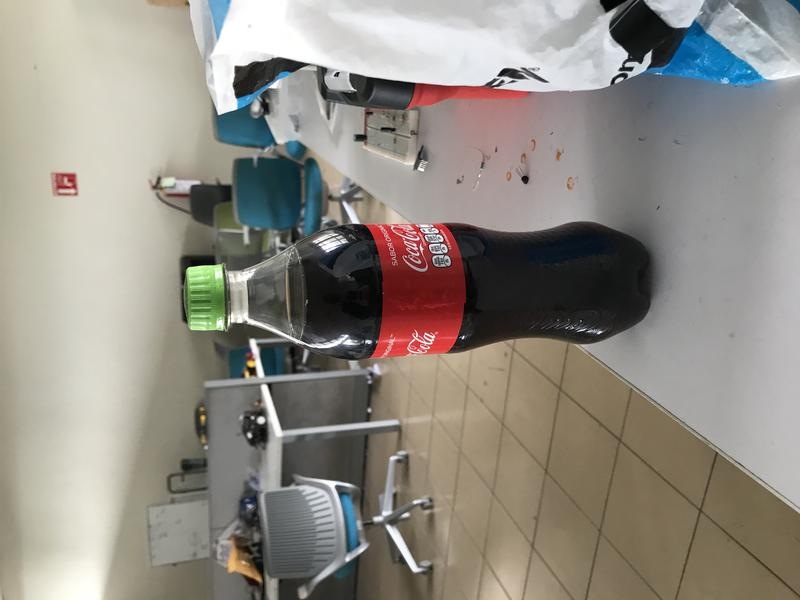coca_cola: (182, 223, 652, 363)
